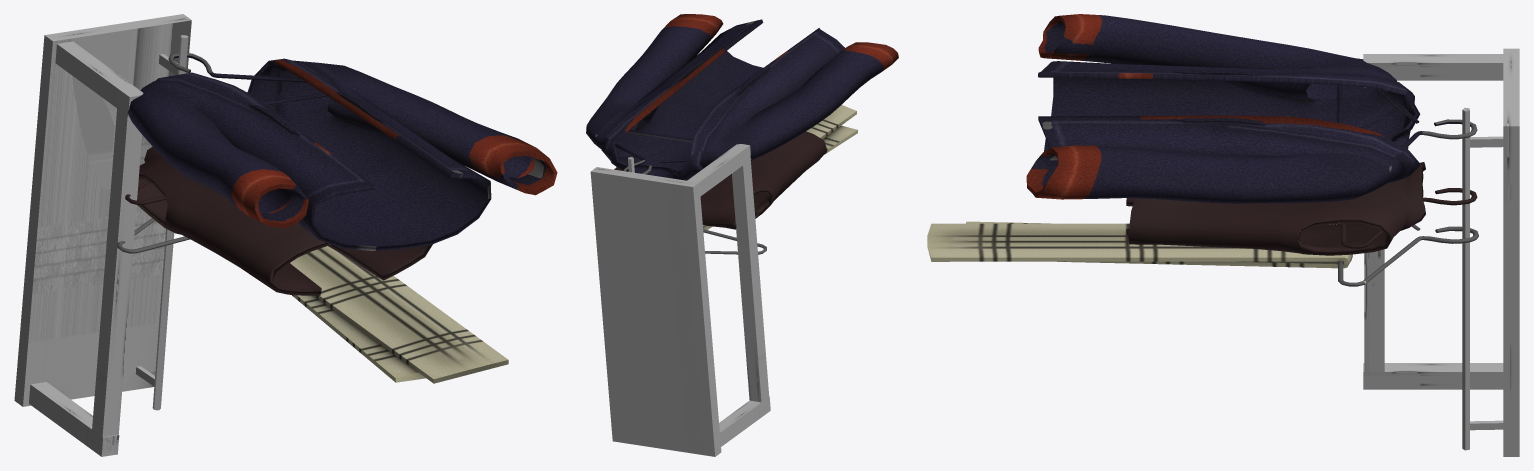
File: frl_apartment_clothes_hanger_01.glb
3 renders of one model, left to right at view 1: azimuth 30°, elevation 25°; view 2: azimuth 150°, elevation 25°; view 3: azimuth 270°, elevation 25°, orthographic. The views are drawn at different scales.
Visible parts, largest first — view 1: frl_apartment_clothes_hanger_01.001; view 2: frl_apartment_clothes_hanger_01.001; view 3: frl_apartment_clothes_hanger_01.001.
Boxes of the visible parts, x1,y1,x2,y2 form: frl_apartment_clothes_hanger_01.001: [14, 14, 557, 456]; frl_apartment_clothes_hanger_01.001: [586, 14, 898, 456]; frl_apartment_clothes_hanger_01.001: [927, 14, 1519, 456].
Size of the model in its own units: 0.7548 by 0.952 by 1.33.
4 materials, 4 textured.
